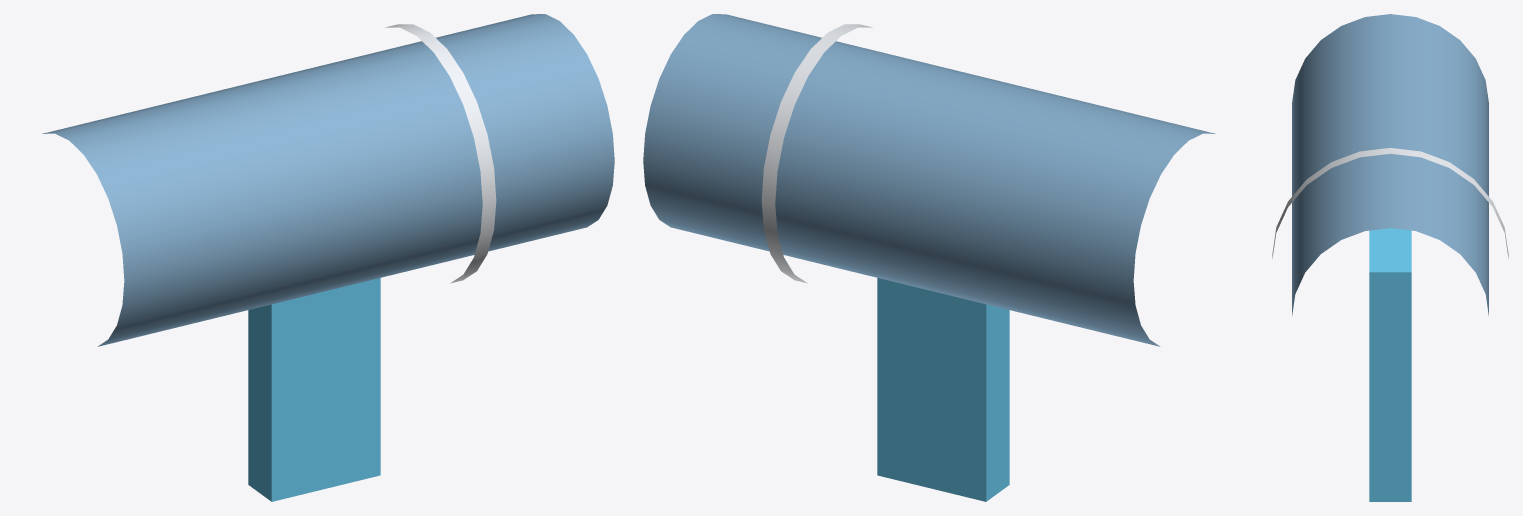
The model's file is flow_orifice_venturimeter.glb.
3 views of the same model, side by side, from view 1: azimuth 30°, elevation 25°; view 2: azimuth 150°, elevation 25°; view 3: azimuth 270°, elevation 25° (orthographic). The views are drawn at different scales.
Visible parts, largest first — view 1: FlowPipeFlangeSection, DifferentialUTubeManometer, SharpEdgedOrificePlate; view 2: FlowPipeFlangeSection, DifferentialUTubeManometer, SharpEdgedOrificePlate; view 3: FlowPipeFlangeSection, DifferentialUTubeManometer, SharpEdgedOrificePlate.
Boxes of the visible parts, x1,y1,x2,y2 form: FlowPipeFlangeSection: (42, 14, 614, 346); DifferentialUTubeManometer: (248, 278, 380, 501); SharpEdgedOrificePlate: (385, 24, 496, 283); FlowPipeFlangeSection: (643, 14, 1215, 346); DifferentialUTubeManometer: (877, 278, 1009, 501); SharpEdgedOrificePlate: (761, 24, 872, 283); FlowPipeFlangeSection: (1292, 14, 1488, 315); DifferentialUTubeManometer: (1369, 228, 1411, 501); SharpEdgedOrificePlate: (1272, 148, 1508, 258).
Size of the model in its own units: 1.8 by 1.47 by 0.84.
